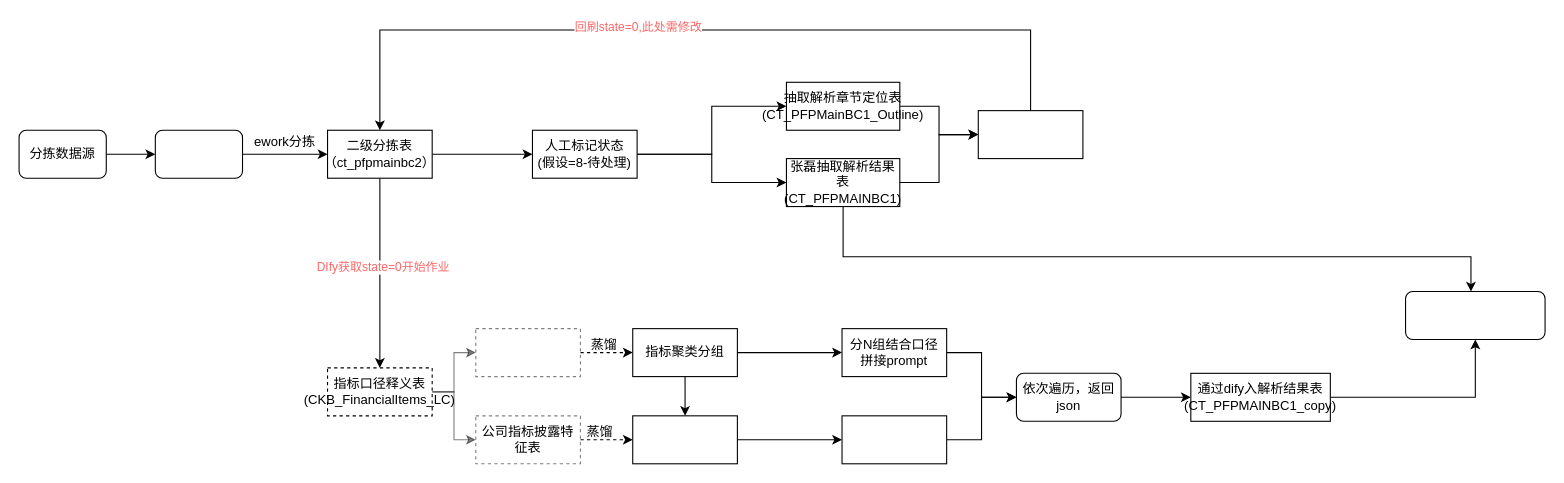
Image size: 1564x483. Some labels were removed from this diagram. Here are the shapes that lost their labels. From the top down, the centre of each, then its label:
the point at 198,153: 一级分拣表(channel)
the point at 1030,134: 入库完成
the point at 1474,315: 比对一致7-自动入库； 不一致（一种代码相同，数值不同：XXX； A有代码，B无，XXX）
the point at 527,352: 基准集信息表
the point at 684,439: 章节切片
the point at 894,439: 切分N组章节html
